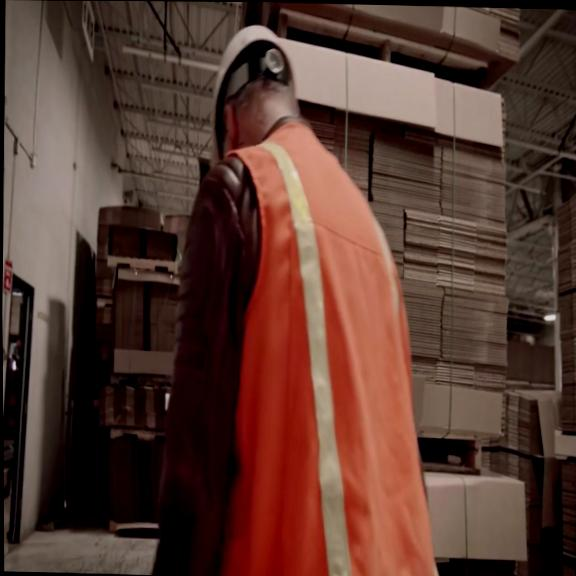safety_vest: (213, 119, 450, 576)
